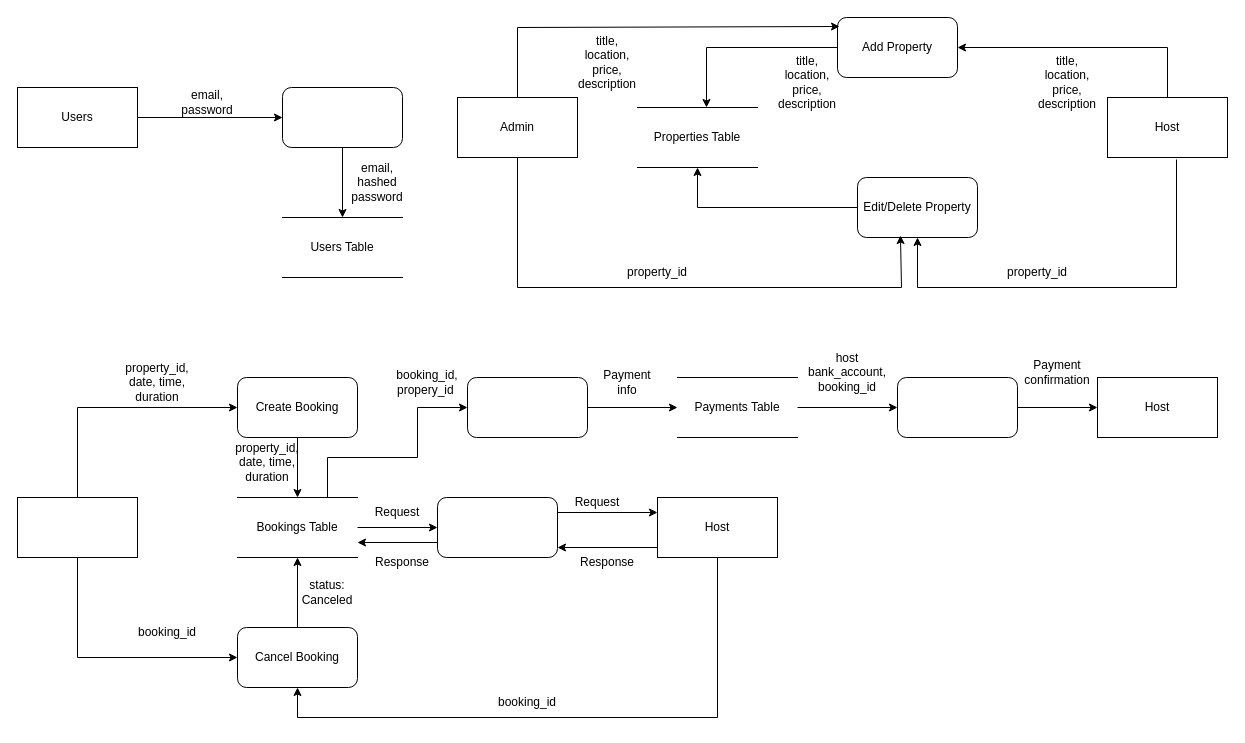
Some shapes in this 1245 by 743 pixel diagram are drawn without their labels. The centre of each missing label's shape, as x and y in pixels:
"Booking Request" belongs at point 497,527.
"Guest" belongs at point 77,527.
"Make Schedule Payouts" belongs at point 957,407.
"Make Upfront Payment" belongs at point 527,407.
"Registration/Login" belongs at point 342,117.
